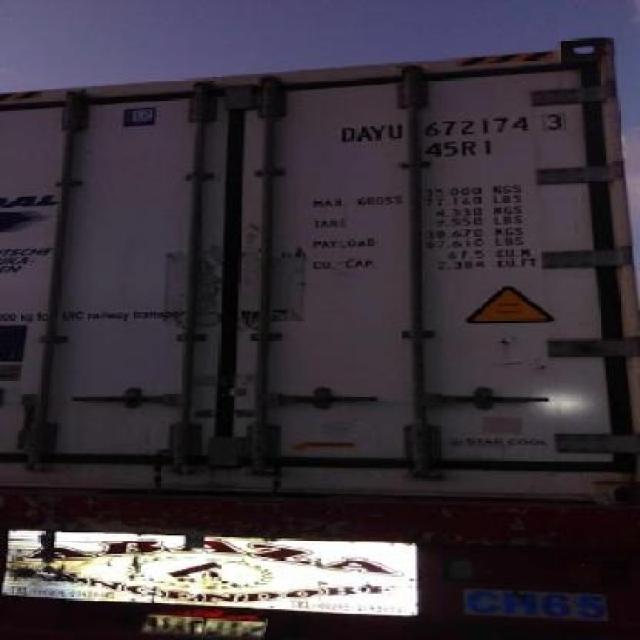ISO: (425, 136, 508, 160)
container_number: (336, 114, 570, 138)
